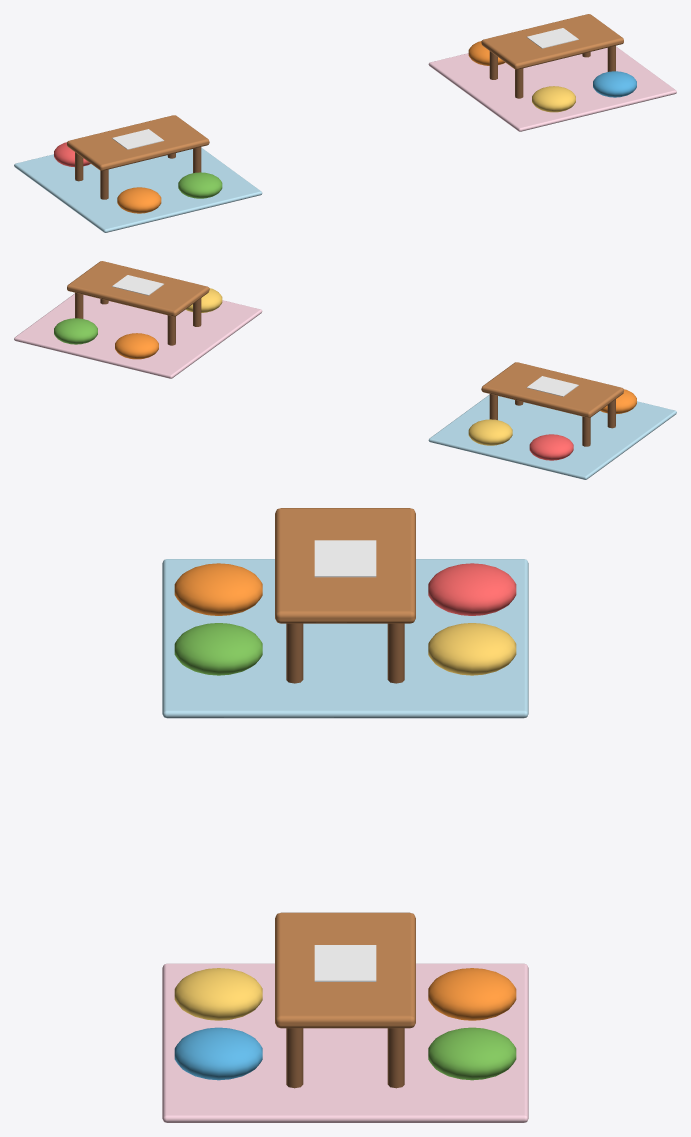
File: kdesk-mats.glb
3 views of the same model, one above another, from view 1: azimuth 30°, elevation 25°; view 2: azimuth 150°, elevation 25°; view 3: azimuth 270°, elevation 25° (orthographic). The views are drawn at different scales.
Size of the model in its own units: 4.7 by 0.3305 by 1.3.
